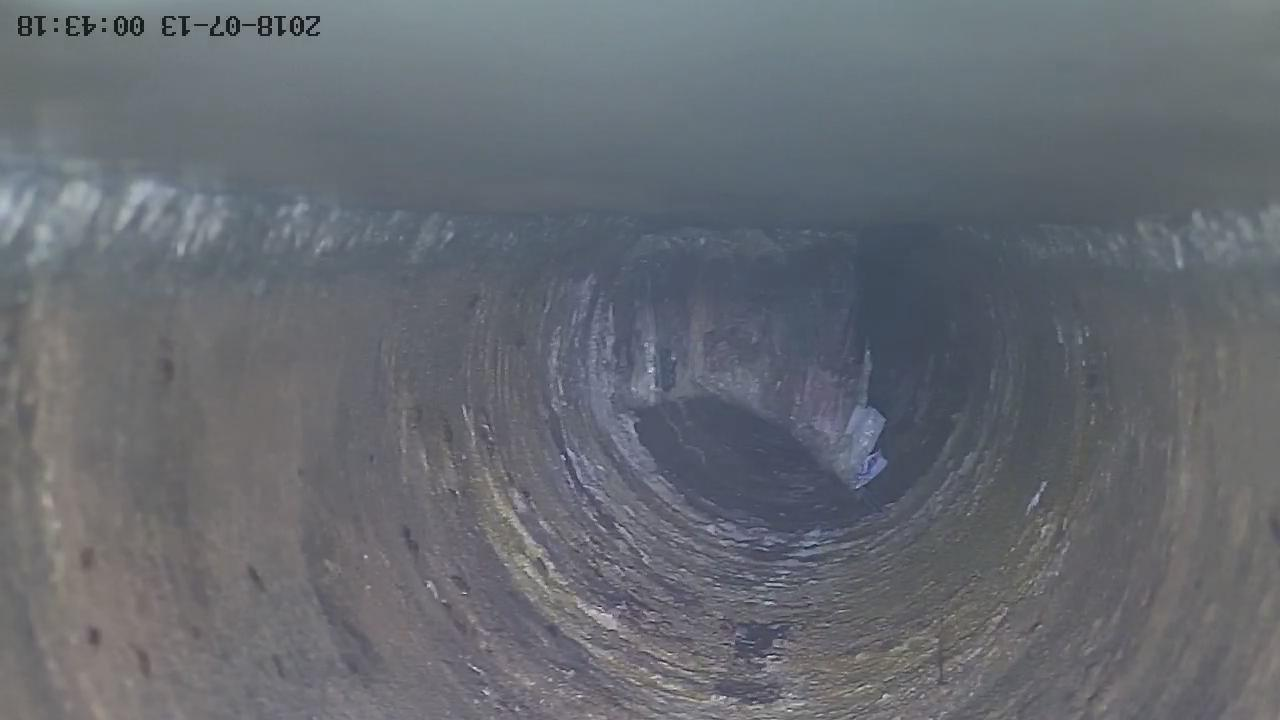ZAW: (606, 238, 890, 501)
